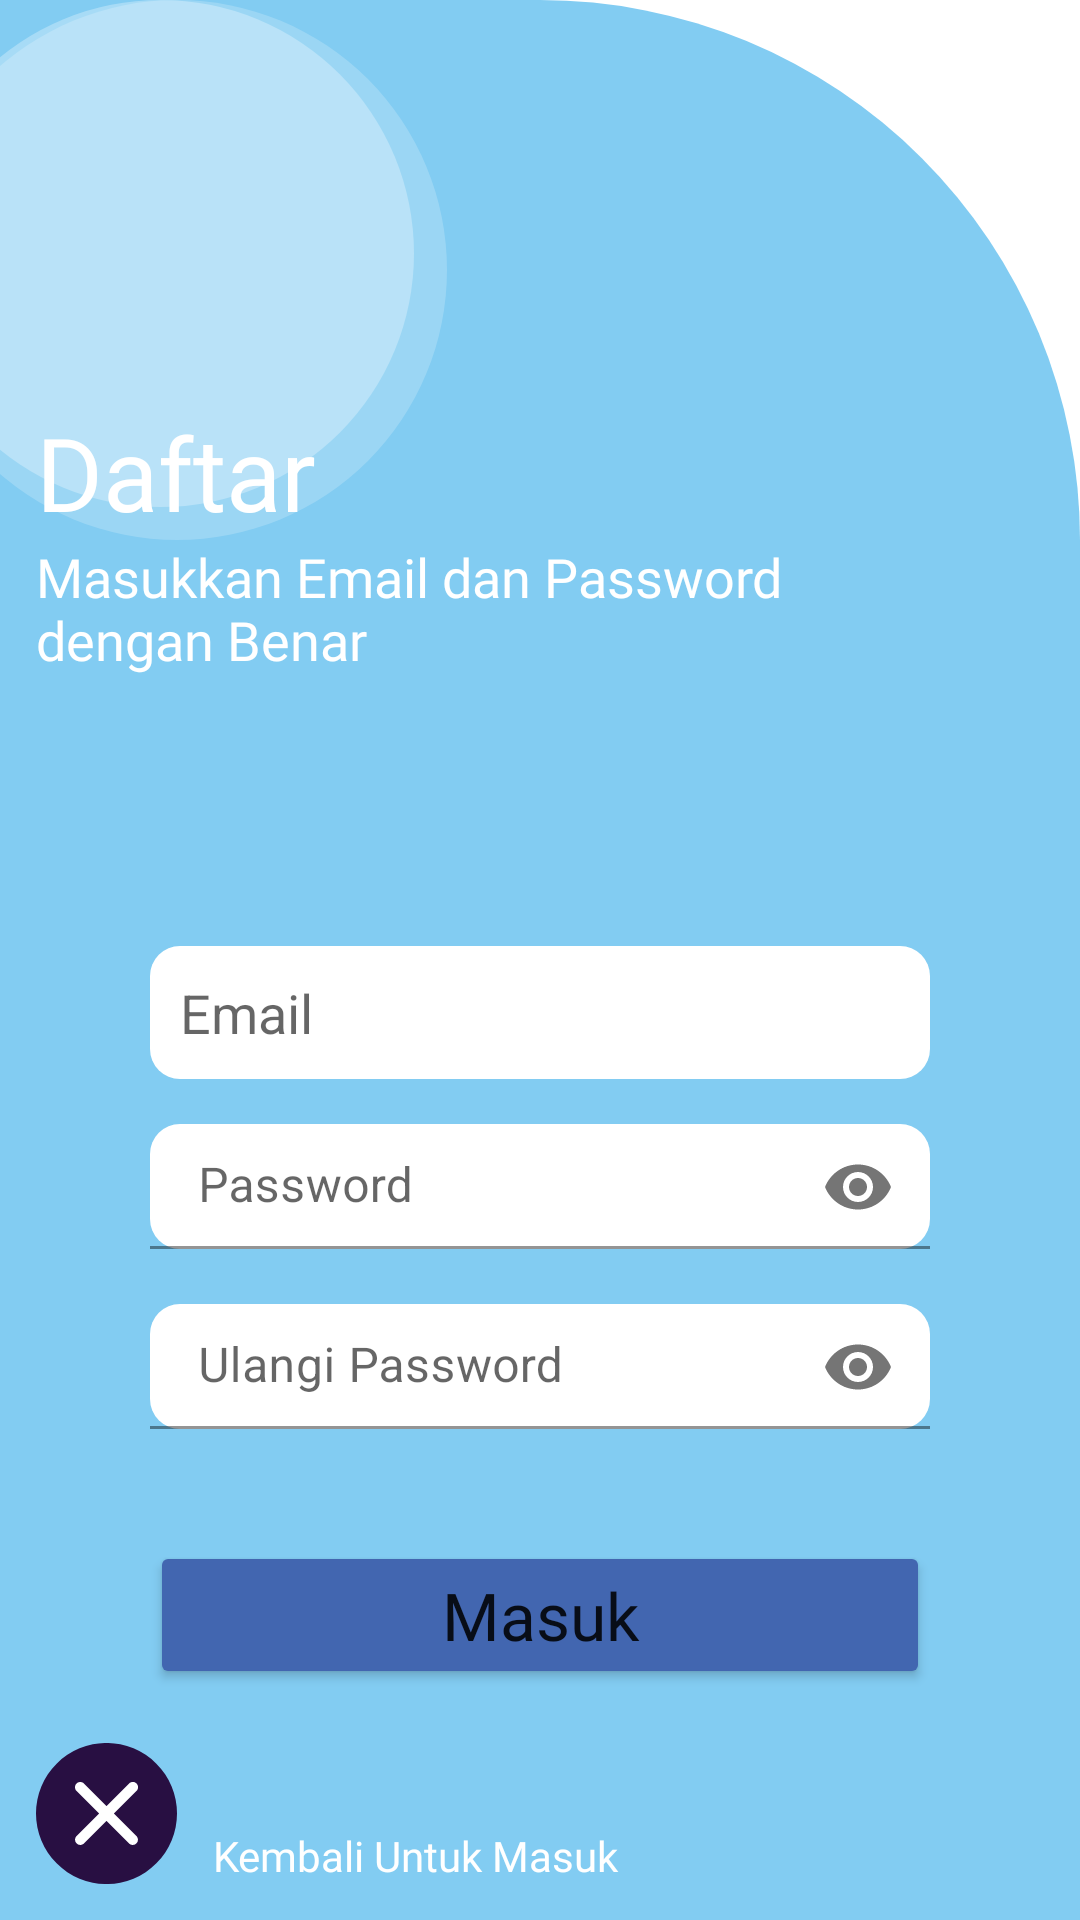

Point at icon controls on the screen. Image size 1080×1920, points as point (x, y).
back: point (106, 1813)
